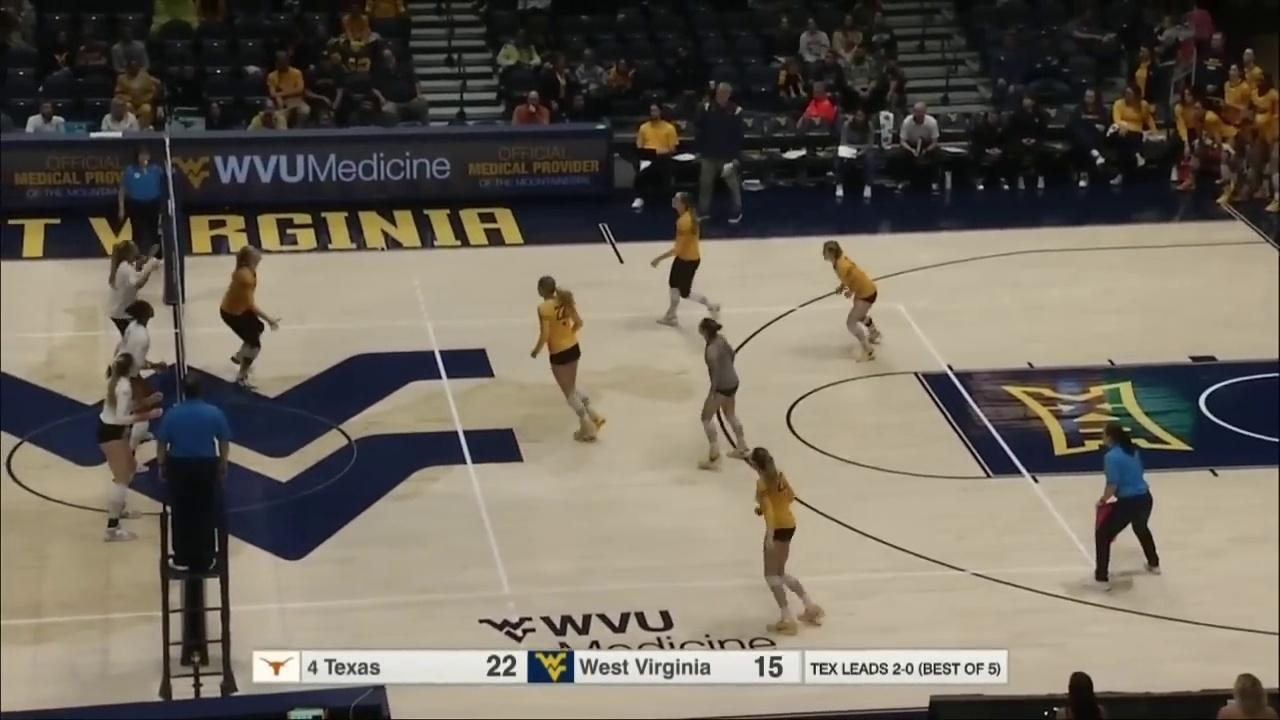player: (750, 447, 827, 635), (532, 278, 611, 444), (95, 354, 161, 539), (693, 318, 754, 472), (652, 191, 723, 323), (219, 245, 280, 388), (108, 239, 161, 398), (822, 241, 883, 360), (114, 301, 155, 473)
refree: (155, 373, 229, 569), (1093, 427, 1163, 593), (118, 147, 170, 267)
